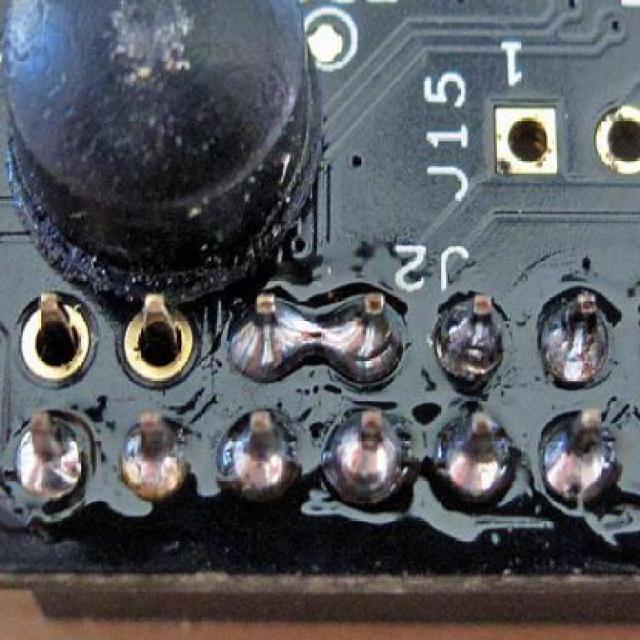Soldering shorted: (226, 274, 409, 386)
